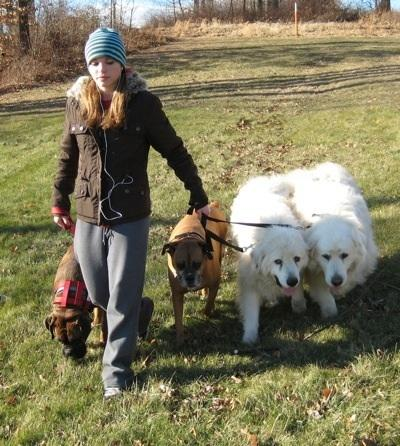person: (51, 29, 209, 398)
